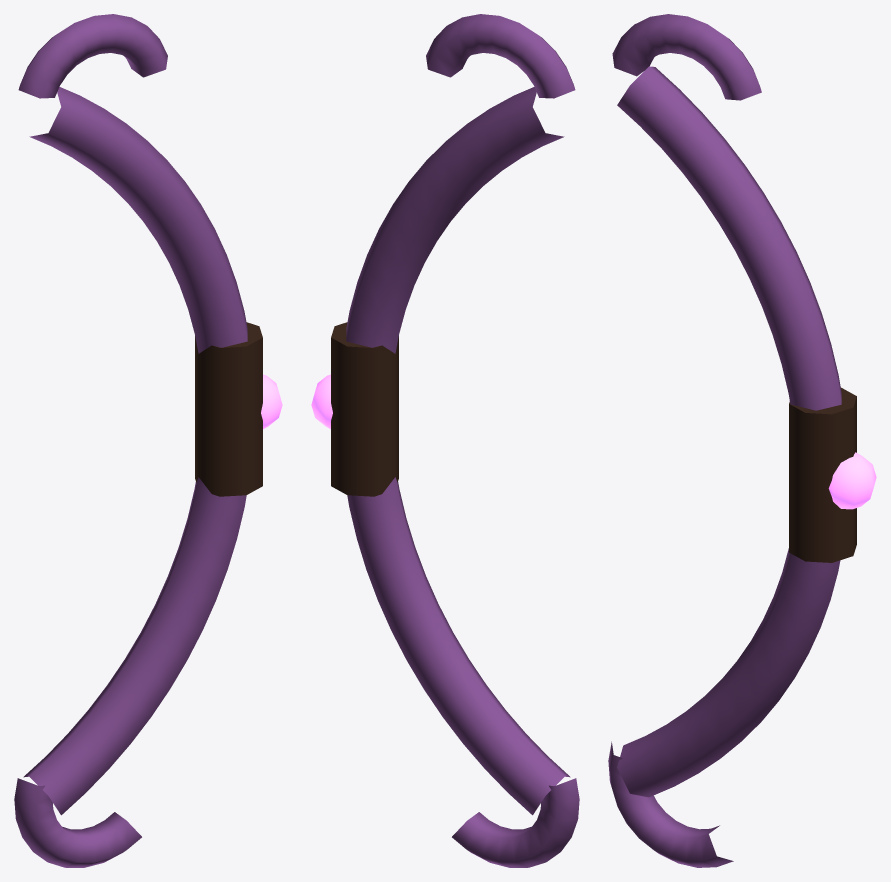
The model's file is bow_f1_9c63c2ec.glb.
3 renders of one model, left to right at view 1: azimuth 30°, elevation 25°; view 2: azimuth 150°, elevation 25°; view 3: azimuth 330°, elevation 25°, orthographic.
Parts seen in each view (by area): view 1: m2_ow80_, m0_ow80_, m1_gm160_; view 2: m2_ow80_, m0_ow80_, m1_gm160_; view 3: m2_ow80_, m0_ow80_, m1_gm160_.
Part boxes in pixels (bbox=[...]): m2_ow80_: bbox=[14, 14, 247, 867]; m0_ow80_: bbox=[195, 322, 262, 496]; m1_gm160_: bbox=[261, 374, 282, 429]; m2_ow80_: bbox=[346, 14, 579, 867]; m0_ow80_: bbox=[331, 322, 398, 496]; m1_gm160_: bbox=[311, 374, 332, 429]; m2_ow80_: bbox=[608, 14, 841, 867]; m0_ow80_: bbox=[789, 387, 856, 562]; m1_gm160_: bbox=[828, 452, 876, 509].
Size of the model in its own units: 0.523 by 1.6 by 0.12.
